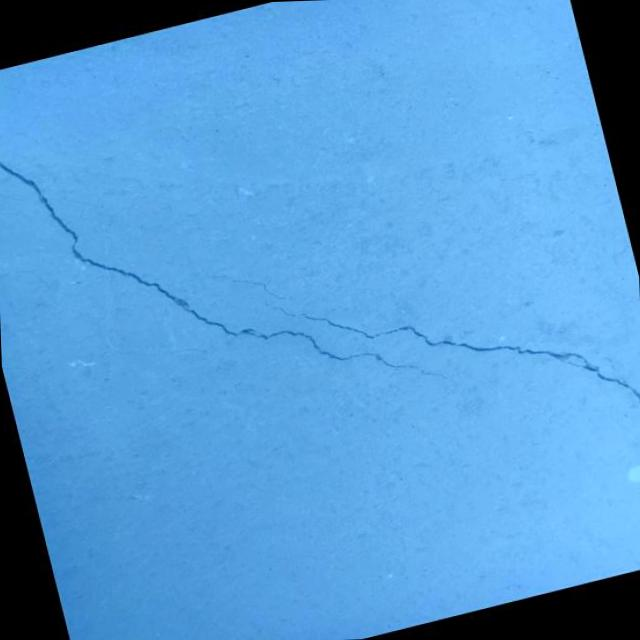crack: (0, 41, 468, 492), (259, 209, 640, 526), (204, 255, 284, 316), (0, 252, 53, 306)
